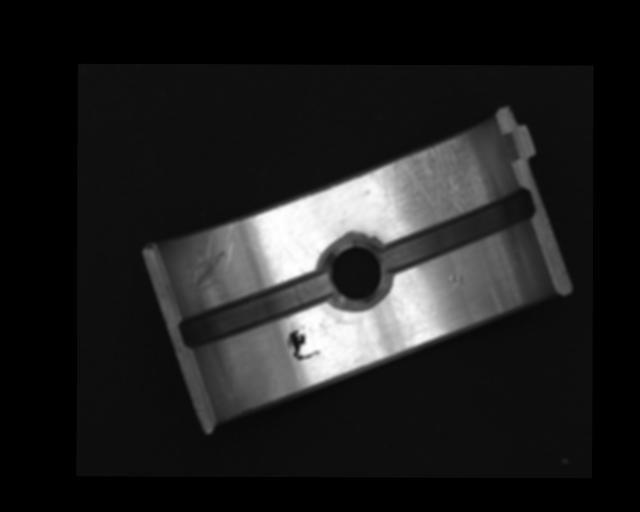blot: (286, 326, 321, 361)
bruise: (447, 274, 467, 290)
gap: (376, 186, 535, 274), (177, 273, 329, 350)
hole: (321, 241, 392, 307)
nick: (192, 222, 237, 295)
scratch: (369, 138, 496, 217)
